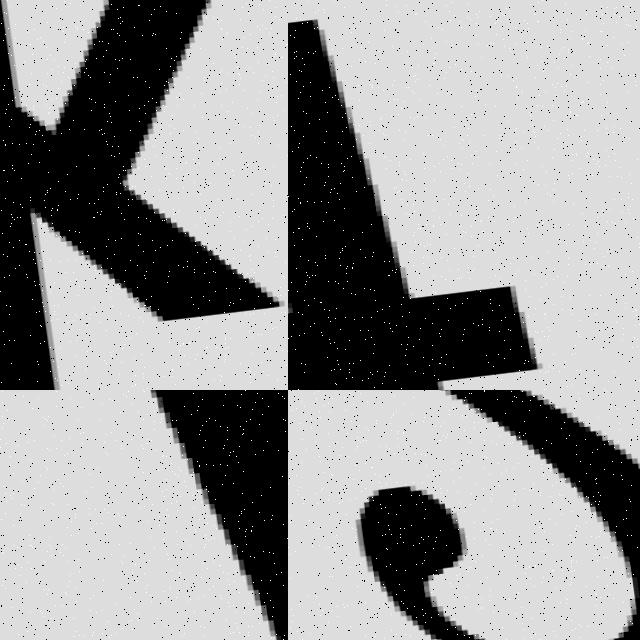2: (288, 390, 640, 640)
F: (288, 0, 598, 390)
K: (0, 0, 288, 390), (86, 390, 288, 640)
